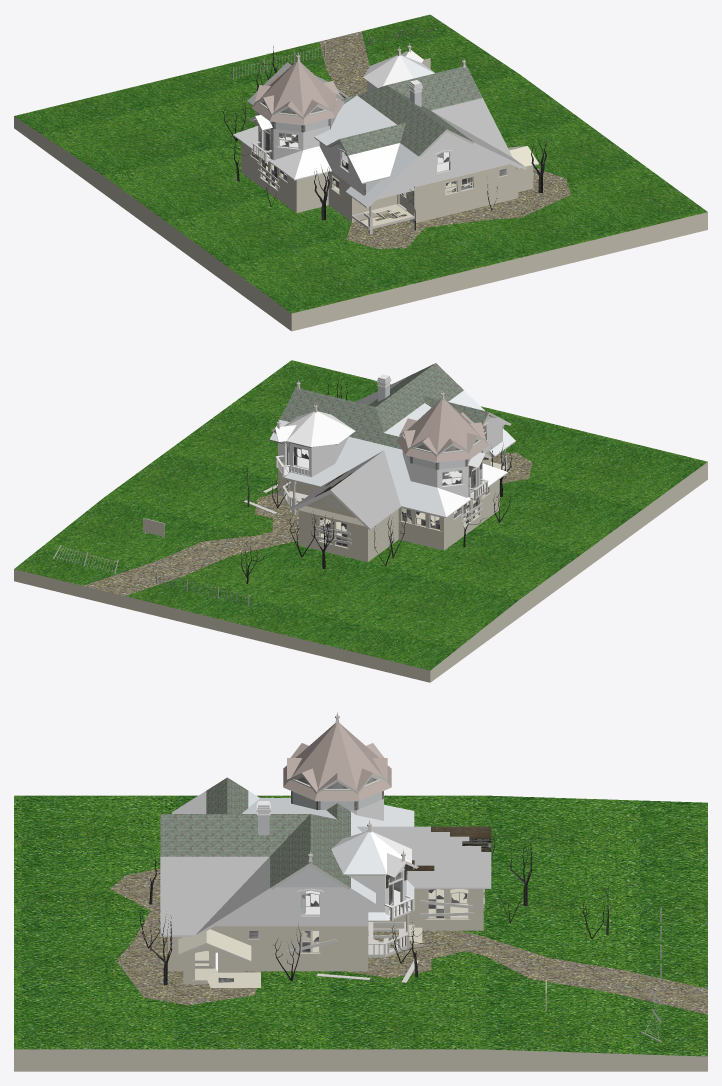
Rendered from Abandoned House.fbx.
3 views of the same model, one above another, from view 1: azimuth 30°, elevation 25°; view 2: azimuth 150°, elevation 25°; view 3: azimuth 270°, elevation 25° (orthographic). The views are drawn at different scales.
Visible parts, largest first — view 1: Material3_28.001, Material2_4, Material2, Material3_30.001, Material2_5, Material3_2, Material3_18, Material3_6, Material2_2, Material2_10, Material2_7; view 2: Material3_28.001, Material2_4, Material2, Material3_30.001, Material2_5, Material3_2, Material3_6, Material3_18, Material2_2, Material2_7, Material2_11; view 3: Material3_28.001, Material2_4, Material3_30.001, Material3_6, Material2_5, Material2, Material3_2, Material3_18, Material2_2, Material3_4, Material2_11, Material2_10 (+1 smaller).
Part boxes in pixels (x1,y1,x2,y2): Material3_28.001: [14, 14, 707, 313]; Material2_4: [14, 58, 707, 331]; Material2: [233, 50, 526, 207]; Material3_30.001: [319, 31, 570, 248]; Material2_5: [340, 65, 482, 156]; Material3_2: [259, 55, 435, 206]; Material3_18: [252, 61, 344, 124]; Material3_6: [232, 29, 524, 166]; Material2_2: [249, 94, 506, 234]; Material2_10: [256, 66, 546, 220]; Material2_7: [252, 129, 505, 195]; Material3_28.001: [14, 360, 707, 670]; Material2_4: [14, 449, 707, 682]; Material2: [271, 374, 511, 529]; Material3_30.001: [83, 452, 532, 595]; Material2_5: [280, 363, 488, 449]; Material3_2: [269, 385, 515, 516]; Material3_6: [53, 377, 406, 606]; Material3_18: [396, 399, 488, 462]; Material2_2: [244, 412, 515, 546]; Material2_7: [286, 425, 488, 546]; Material2_11: [240, 477, 510, 577]; Material3_28.001: [14, 795, 707, 1056]; Material2_4: [14, 889, 707, 1071]; Material3_30.001: [110, 869, 707, 1014]; Material3_6: [160, 826, 661, 1042]; Material2_5: [160, 777, 350, 887]; Material2: [160, 791, 491, 936]; Material3_2: [242, 791, 414, 920]; Material3_18: [283, 723, 391, 800]; Material2_2: [178, 773, 484, 982]; Material3_4: [407, 826, 491, 870]; Material2_11: [139, 823, 604, 980]; Material2_10: [150, 836, 532, 985].
Size of the model in its own units: 12925 by 4500 by 14933.
53 materials, 34 textured.
